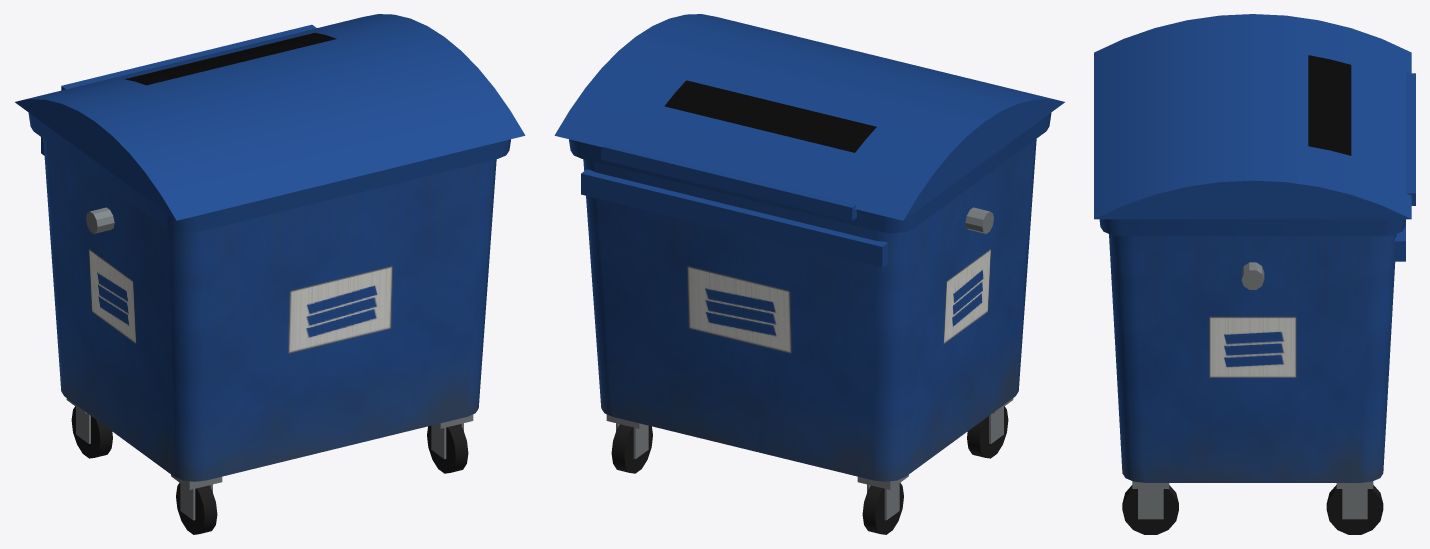
File: paper_container.glb
The picture shows the model from 3 angles, left to right: view 1: azimuth 30°, elevation 25°; view 2: azimuth 150°, elevation 25°; view 3: azimuth 270°, elevation 25°; orthographic projection. The views are drawn at different scales.
Visible parts, largest first — view 1: paper_container; view 2: paper_container; view 3: paper_container.
Boxes of the visible parts, x1,y1,x2,y2 form: paper_container: [15, 14, 525, 534]; paper_container: [554, 14, 1064, 534]; paper_container: [1094, 14, 1415, 534].
Size of the model in its own units: 1.42 by 1.46 by 1.13.
5 materials, 1 textured.
